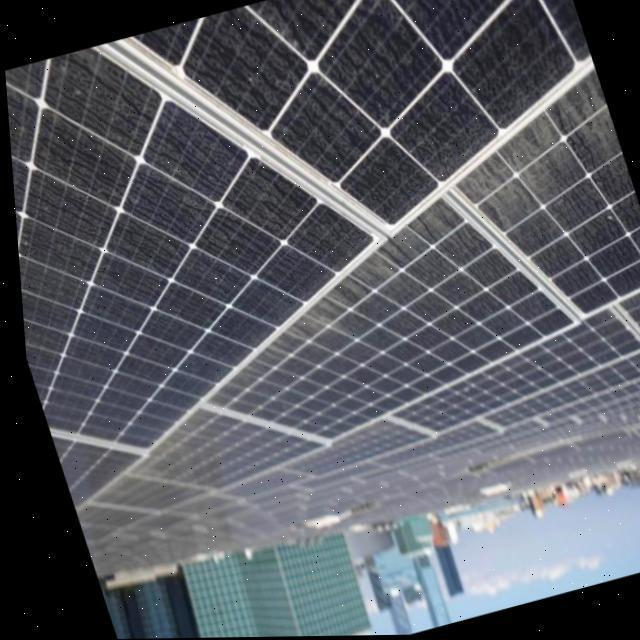Surface Contaminant: (4, 0, 590, 510), (67, 67, 620, 549)
